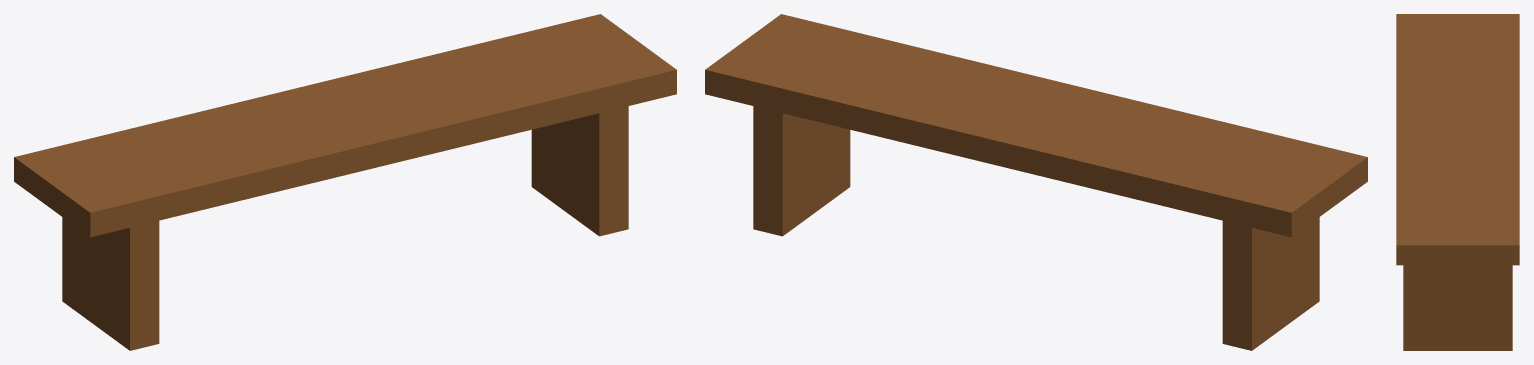
The model's file is SM_Bench_01.fbx.
The picture shows the model from 3 angles, left to right: view 1: azimuth 30°, elevation 25°; view 2: azimuth 150°, elevation 25°; view 3: azimuth 270°, elevation 25°; orthographic projection. The views are drawn at different scales.
Visible parts, largest first — view 1: SM_Bench_01; view 2: SM_Bench_01; view 3: SM_Bench_01.
Boxes of the visible parts, left/top/right/bottom form: SM_Bench_01: left=14, top=14, right=676, bottom=350; SM_Bench_01: left=705, top=14, right=1367, bottom=350; SM_Bench_01: left=1396, top=14, right=1519, bottom=350.
Size of the model in its own units: 2 by 0.495 by 0.45.
